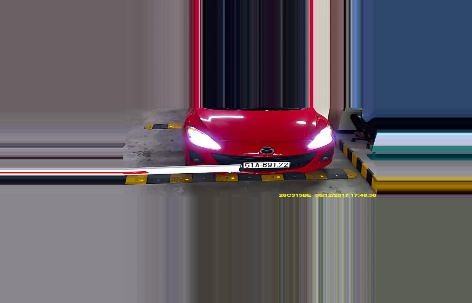plate: (242, 157, 291, 169)
